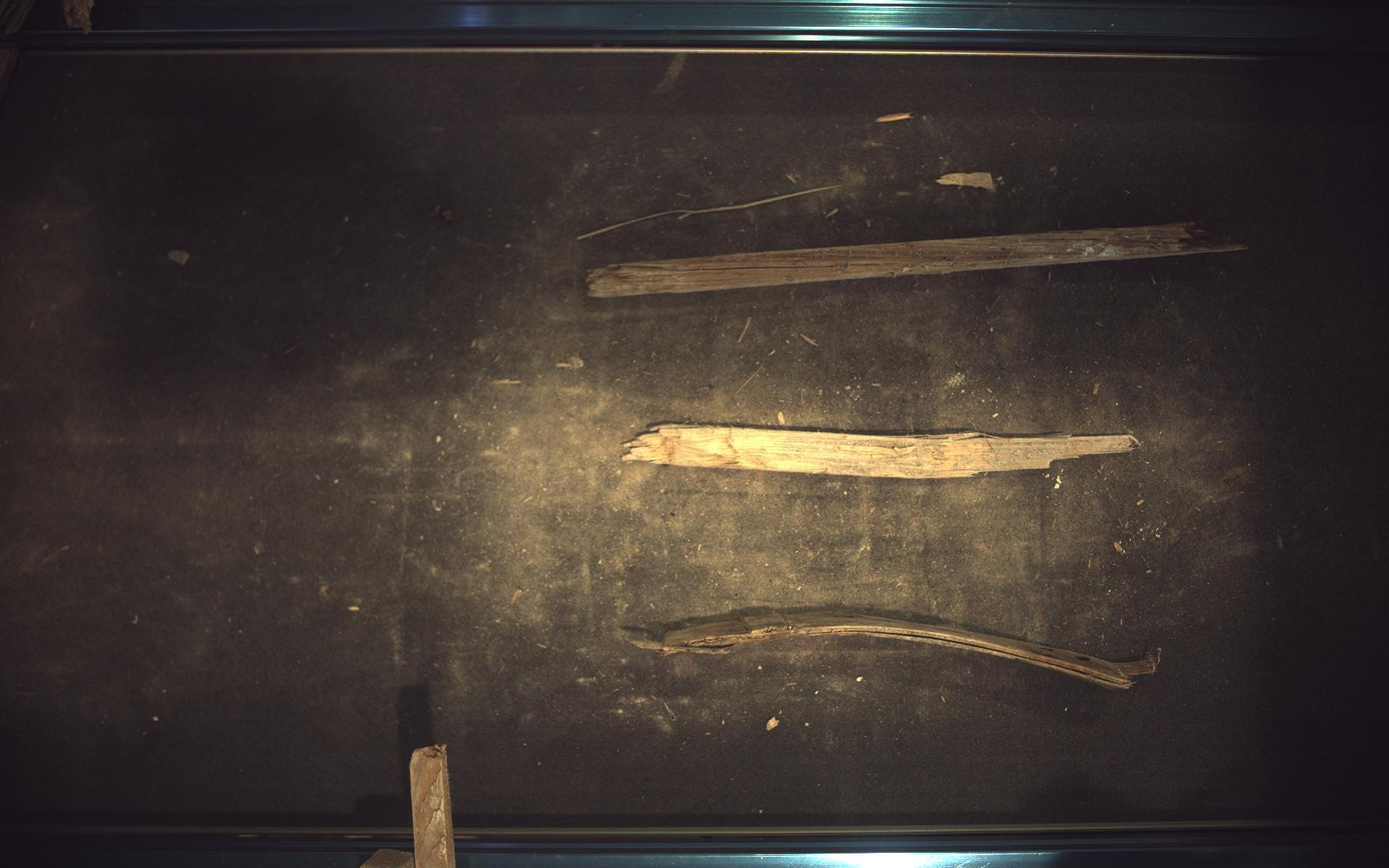wood: (588, 223, 1249, 297), (634, 610, 1162, 690), (622, 424, 1141, 479), (409, 746, 456, 868), (360, 850, 415, 868)
